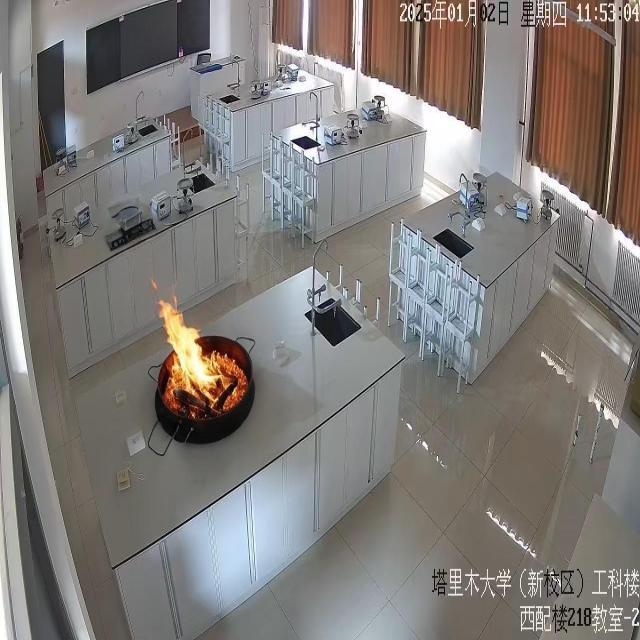smoke: (156, 292, 237, 410)
